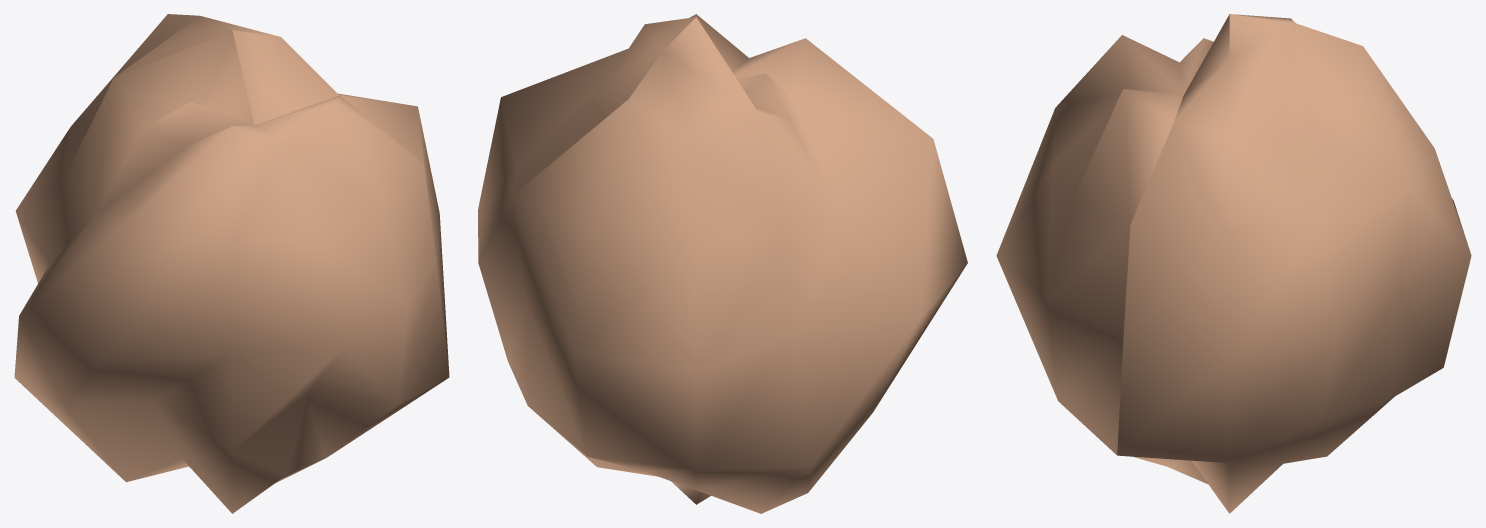
Rendered from rock_015.fbx.
3 renders of one model, left to right at view 1: azimuth 30°, elevation 25°; view 2: azimuth 150°, elevation 25°; view 3: azimuth 270°, elevation 25°, orthographic. The views are drawn at different scales.
Visible parts, largest first — view 1: Rock; view 2: Rock; view 3: Rock.
Part boxes in pixels (x1,y1,x2,y2): Rock: (14, 14, 449, 513); Rock: (478, 14, 967, 513); Rock: (996, 14, 1471, 513).
Size of the model in its own units: 3.63 by 3.82 by 3.43.
